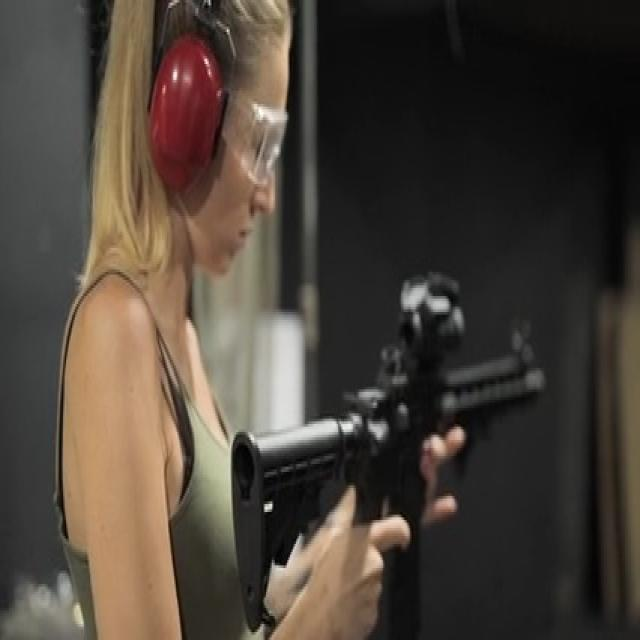Gun_Holder: (215, 242, 595, 610)
Person: (51, 1, 394, 640)
